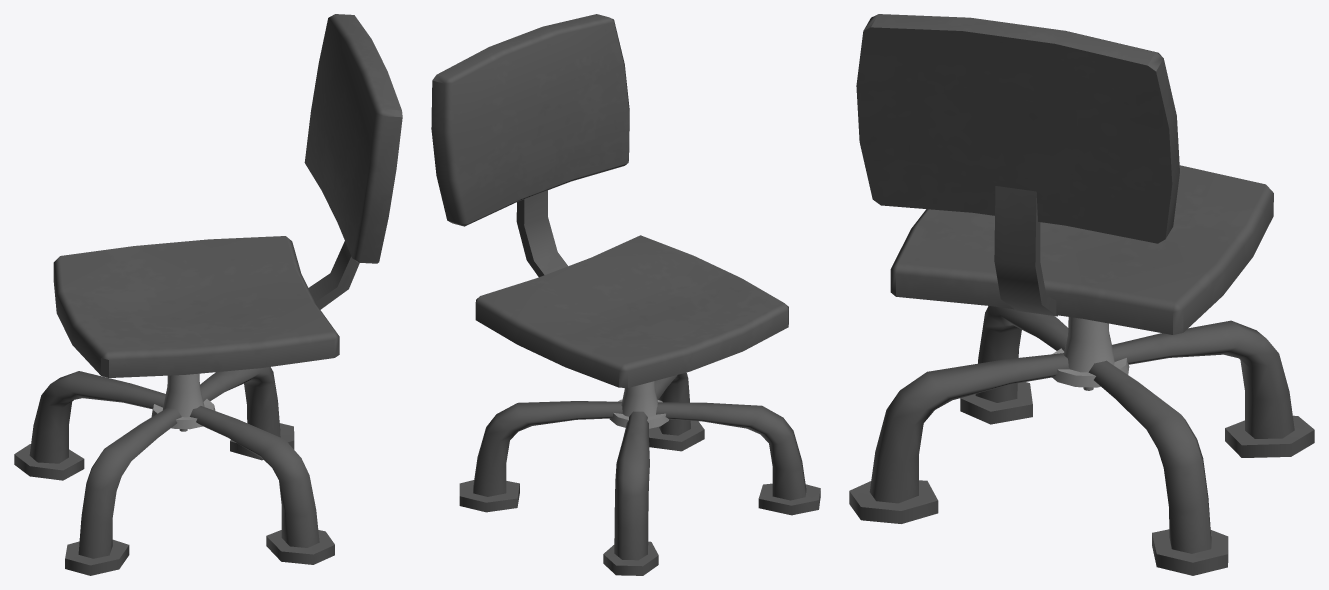
Rendered from chair.fbx.
3 views of the same model, side by side, from view 1: azimuth 30°, elevation 25°; view 2: azimuth 150°, elevation 25°; view 3: azimuth 270°, elevation 25° (orthographic). The views are drawn at different scales.
Parts seen in each view (by area): view 1: chairBase5, chair57, chair62, chair61, chair60, chair63, chair59, chair58; view 2: chair57, chairBase5, chair61, chair63, chair60, chair58, chair62, chair59; view 3: chair57, chairBase5, chair62, chair63, chair60, chair58, chair61, chair59.
Boxes of the visible parts, x1,y1,x2,y2 form: chairBase5: (53, 236, 339, 377); chair57: (304, 14, 402, 263); chair62: (190, 406, 334, 564); chair61: (65, 407, 181, 575); chair60: (14, 371, 165, 480); chair63: (200, 367, 294, 460); chair59: (151, 373, 215, 431); chair58: (308, 241, 359, 309); chair57: (431, 14, 629, 226); chairBase5: (475, 235, 788, 387); chair61: (656, 402, 820, 515); chair63: (459, 401, 622, 512); chair60: (603, 411, 658, 575); chair58: (516, 190, 567, 277); chair62: (649, 372, 704, 451); chair59: (609, 381, 668, 428); chair57: (856, 14, 1179, 243); chairBase5: (890, 165, 1273, 334); chair62: (849, 353, 1069, 523); chair63: (1088, 360, 1228, 575); chair60: (1112, 320, 1314, 457); chair58: (994, 186, 1057, 316); chair61: (960, 306, 1068, 424); chair59: (1052, 317, 1129, 390).
Bounding box in the file's own units: 123 × 145 × 112.
